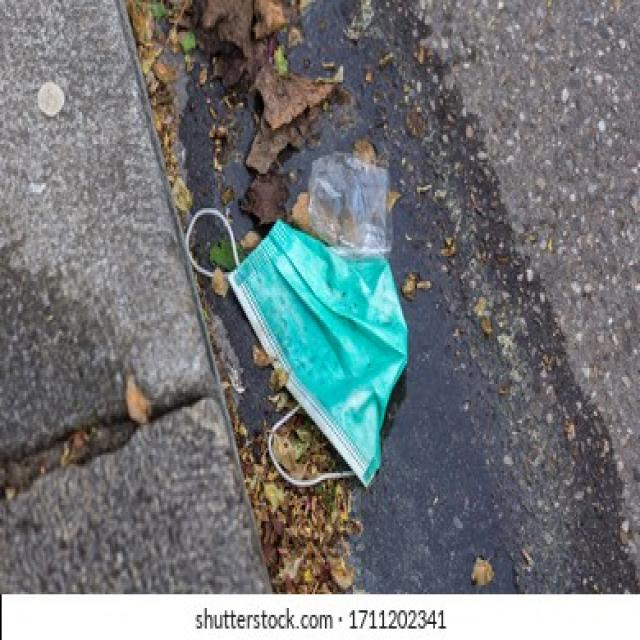non-organic waste: (185, 194, 402, 496)
